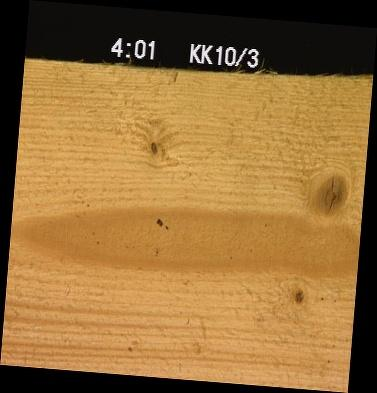small_knot: (289, 283, 308, 307), (146, 137, 161, 156)
sound_knot: (308, 171, 352, 216)
